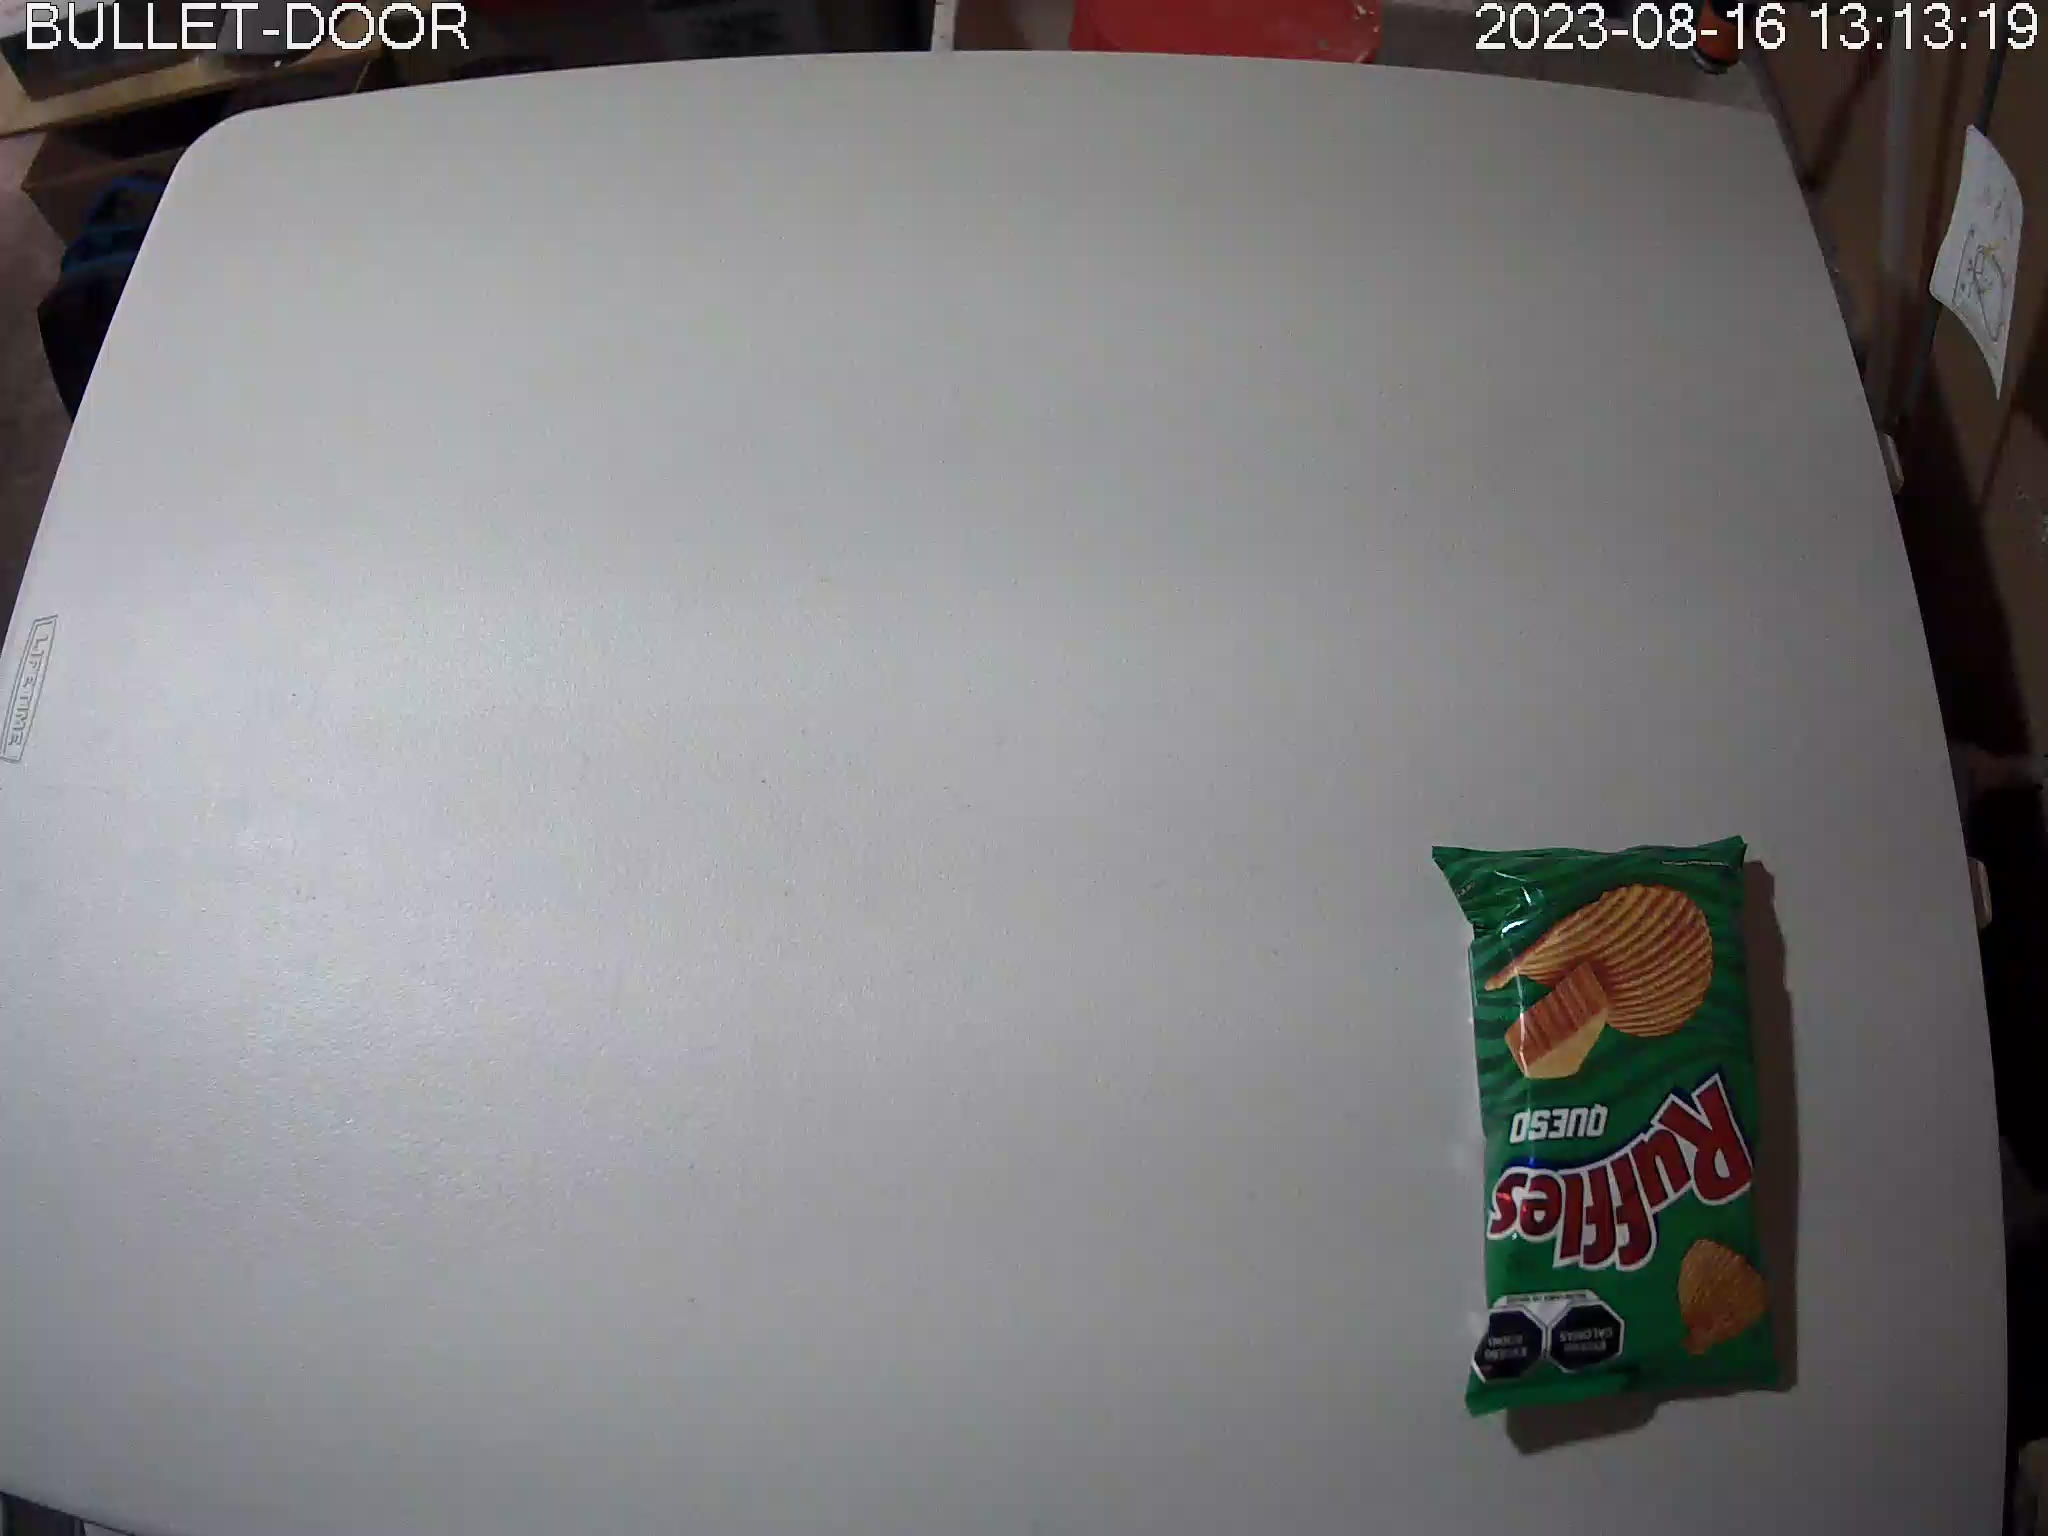RufflesQ_48_F: (1430, 829, 1793, 1421)
